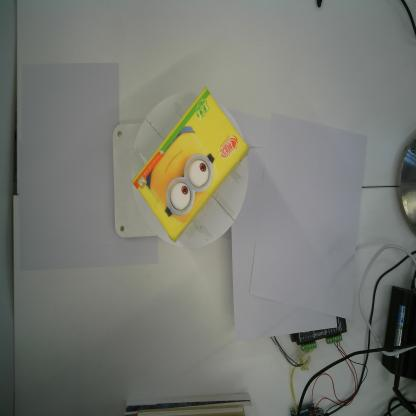Tissue: (130, 84, 249, 244)
